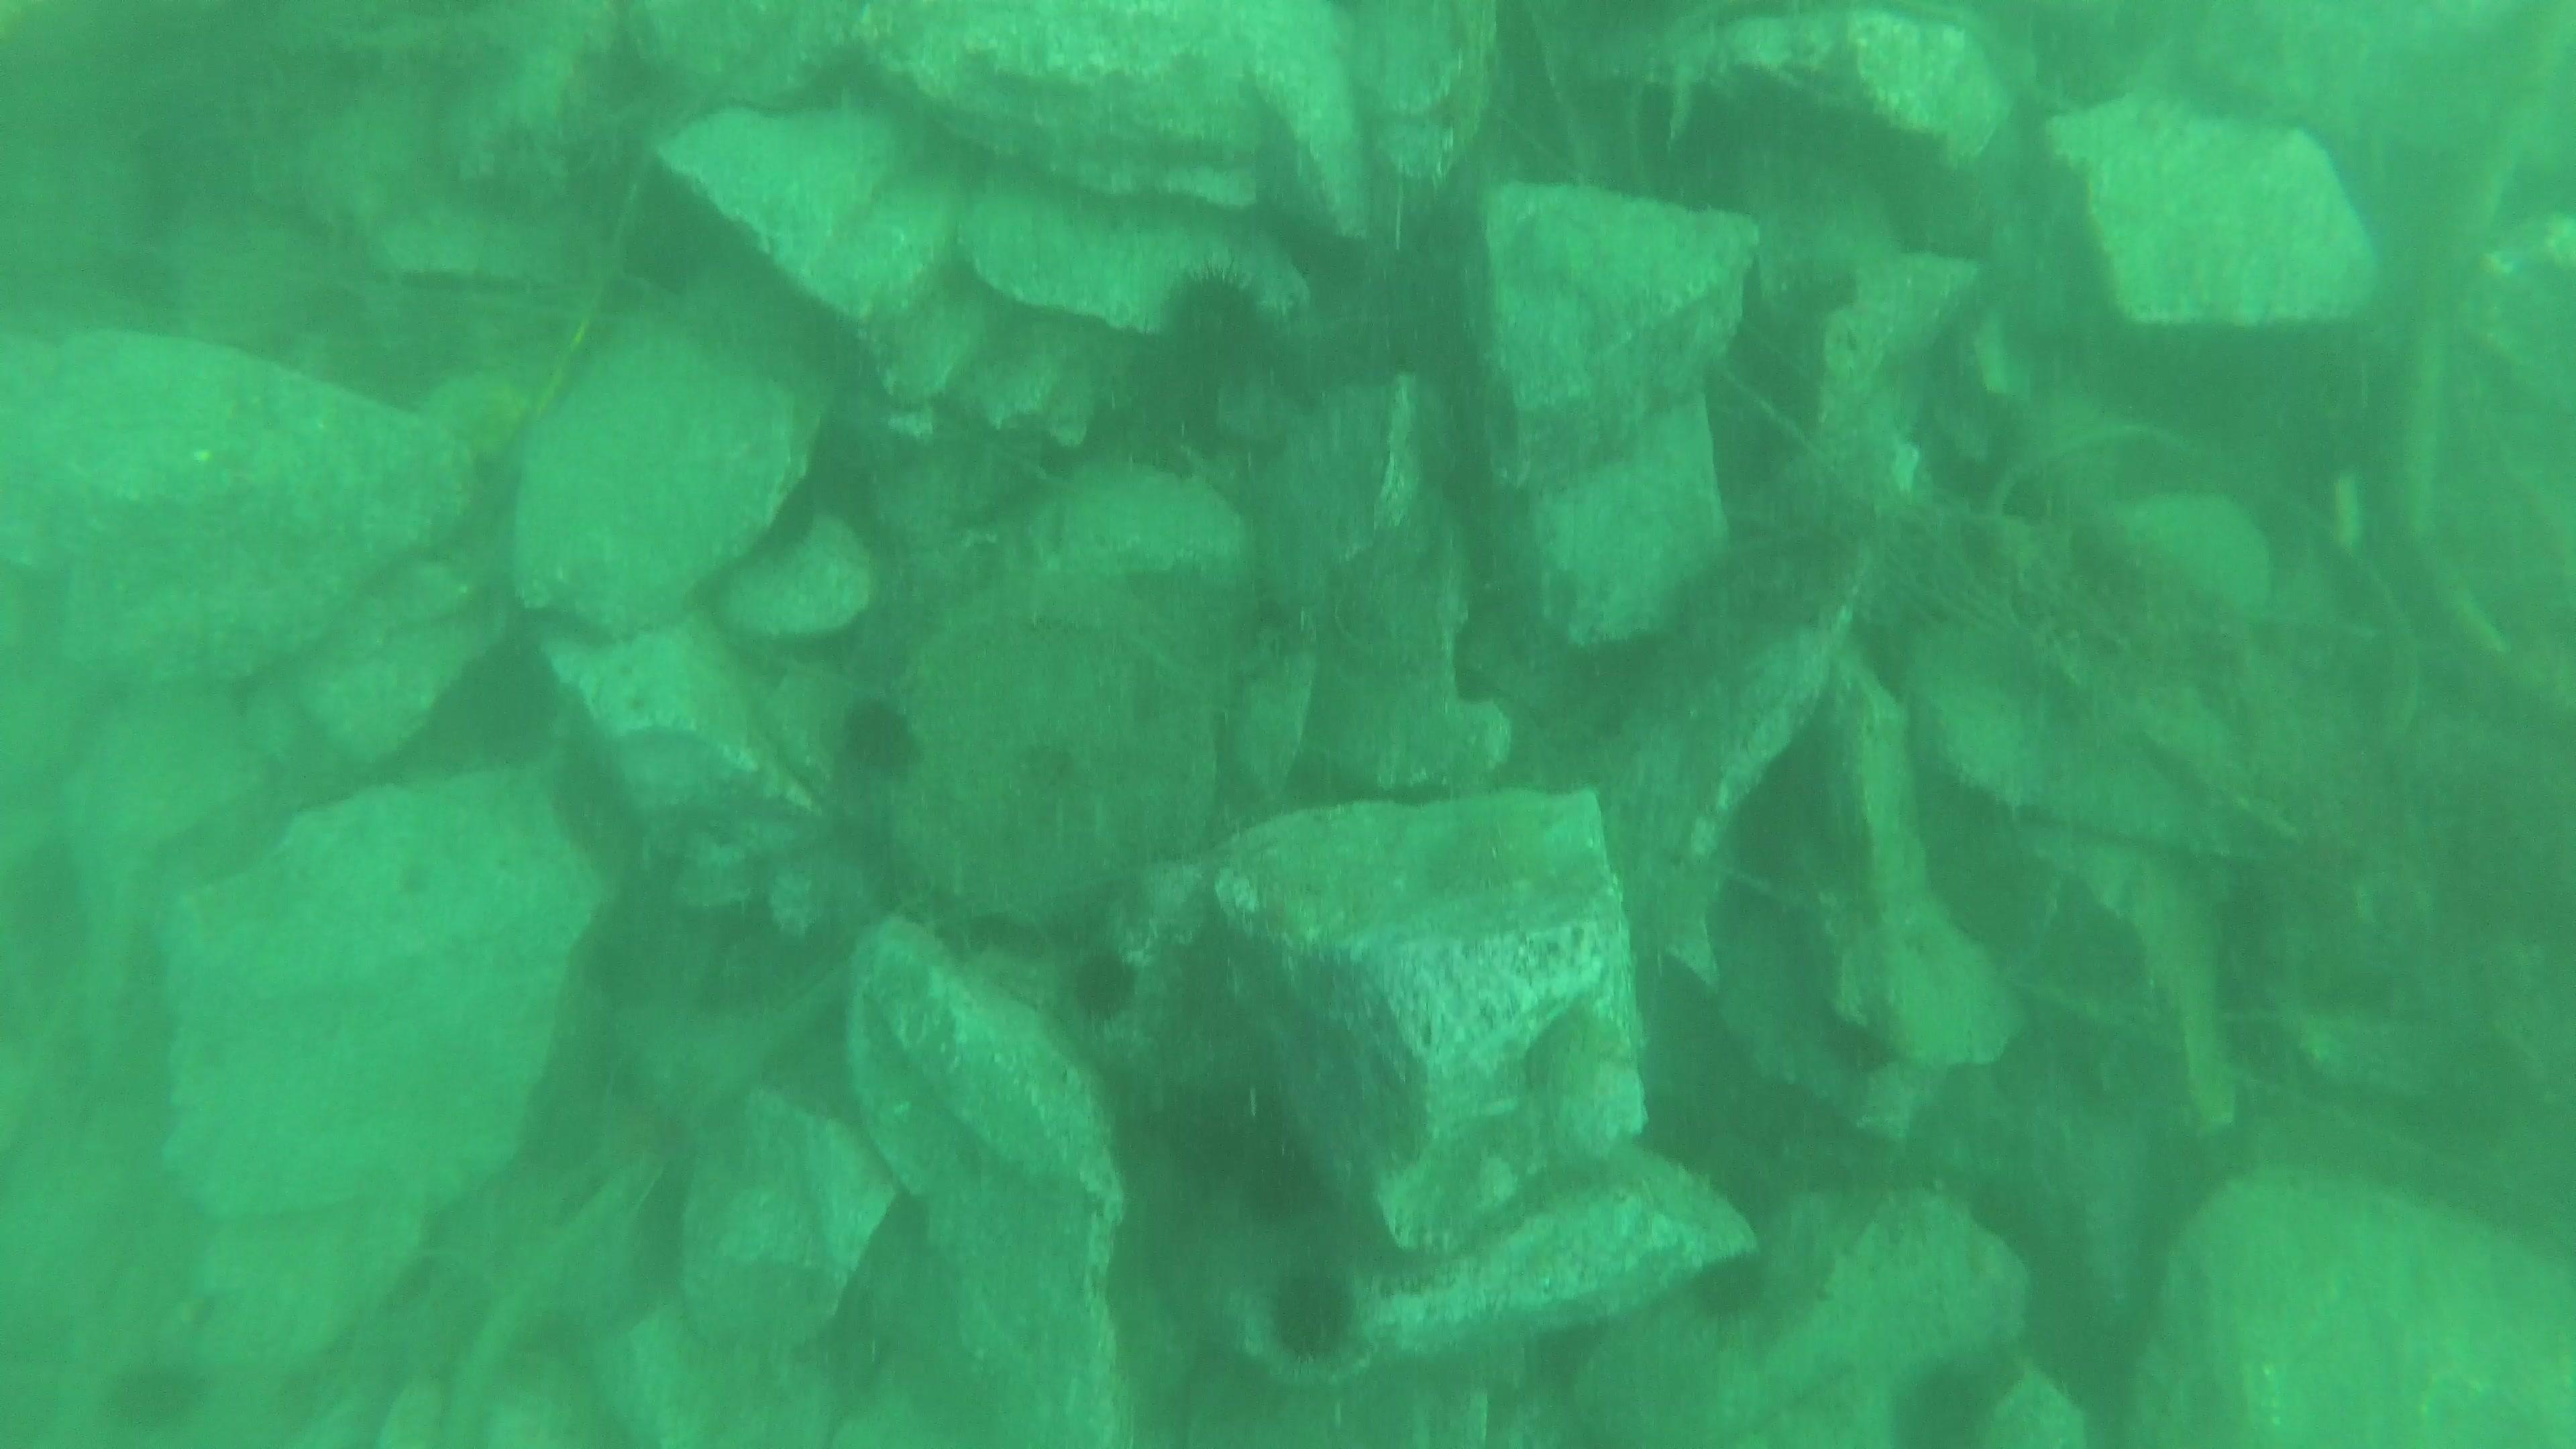echinus: (1148, 260, 1283, 400), (1884, 1352, 2008, 1447), (1258, 1260, 1366, 1366), (96, 1348, 214, 1438), (828, 688, 929, 789), (1679, 1244, 1780, 1332), (1058, 939, 1145, 1030)
